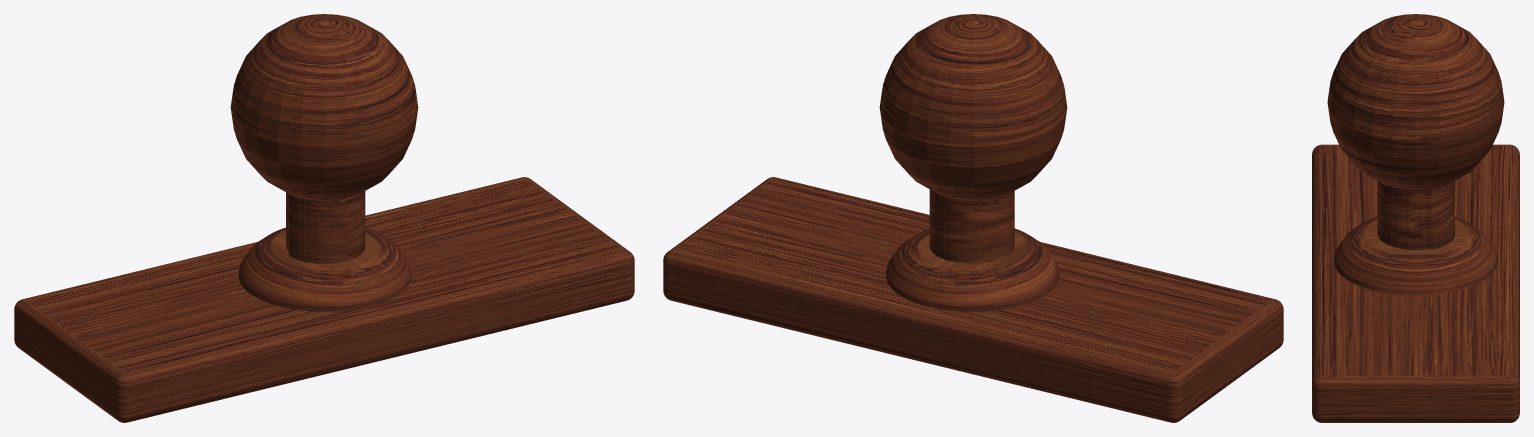
3 renders of one model, left to right at view 1: azimuth 30°, elevation 25°; view 2: azimuth 150°, elevation 25°; view 3: azimuth 270°, elevation 25°, orthographic. The views are drawn at different scales.
Parts seen in each view (by area): view 1: Node4, Node3, Node1, Node2; view 2: Node4, Node3, Node1, Node2; view 3: Node4, Node3, Node1, Node2.
Boxes of the visible parts, box(x1,y1,x2,y2) form: Node4: box(14, 177, 634, 422); Node3: box(230, 14, 418, 200); Node1: box(238, 227, 412, 311); Node2: box(286, 191, 365, 263); Node4: box(663, 177, 1283, 422); Node3: box(879, 14, 1067, 200); Node1: box(885, 228, 1059, 311); Node2: box(929, 189, 1014, 263); Node4: box(1312, 144, 1519, 422); Node3: box(1327, 14, 1504, 190); Node1: box(1334, 217, 1497, 295); Node2: box(1377, 181, 1454, 249).
Size of the model in its own units: 226 by 128 by 83.09.
2 materials, 1 textured.
